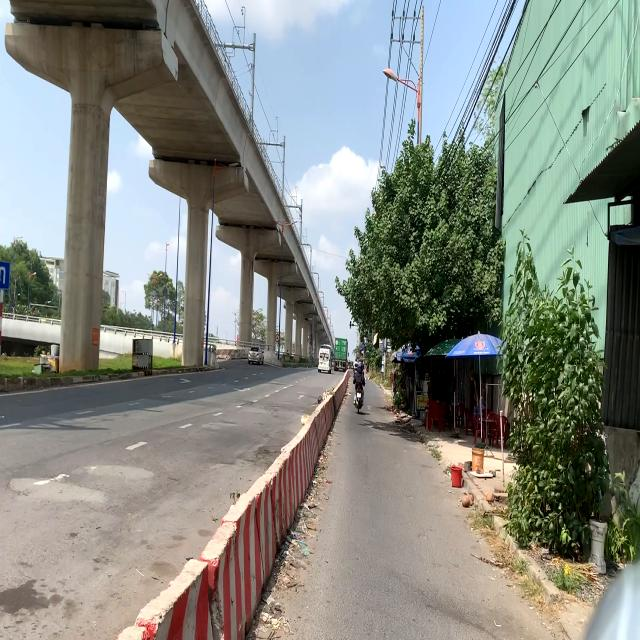P.104: (275, 333, 280, 343)
